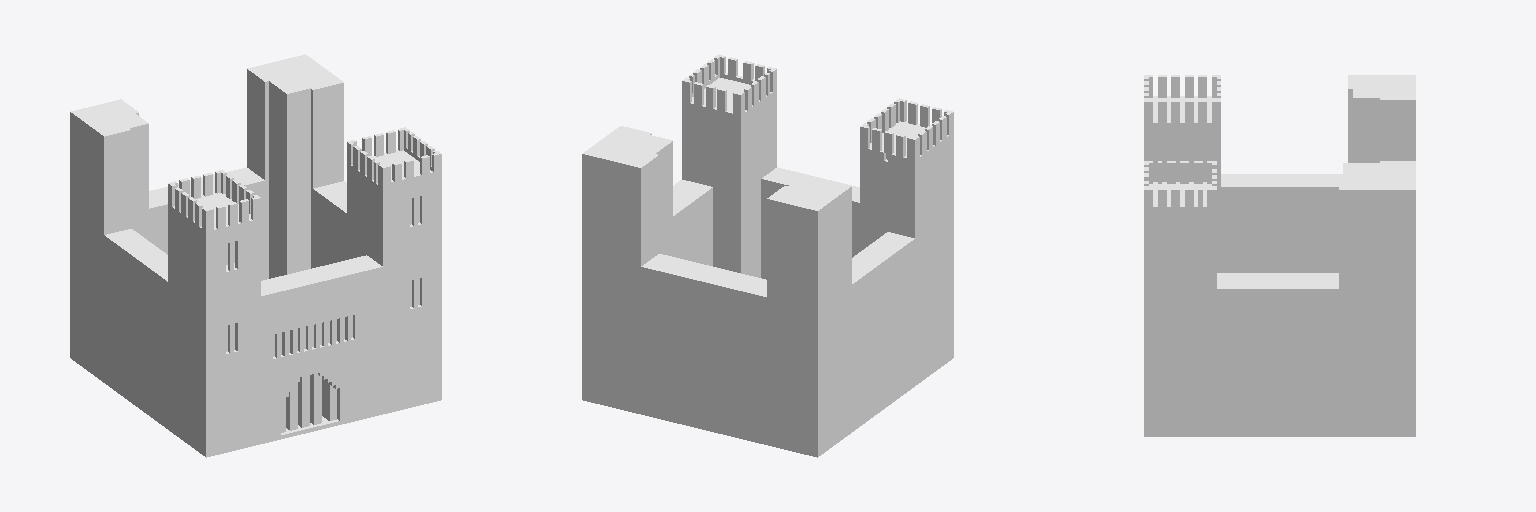
The model's file is EvilFortress2.obj.
3 views of the same model, side by side, from view 1: azimuth 30°, elevation 25°; view 2: azimuth 150°, elevation 25°; view 3: azimuth 270°, elevation 25° (orthographic).
Parts seen in each view (by area): view 1: object 1; view 2: object 1; view 3: object 1.
Part boxes in pixels (x1,y1,x2,y2): object 1: (70,54,441,457); object 1: (582,54,953,457); object 1: (1144,75,1415,436).
Size of the model in its own units: 6 by 6 by 6.